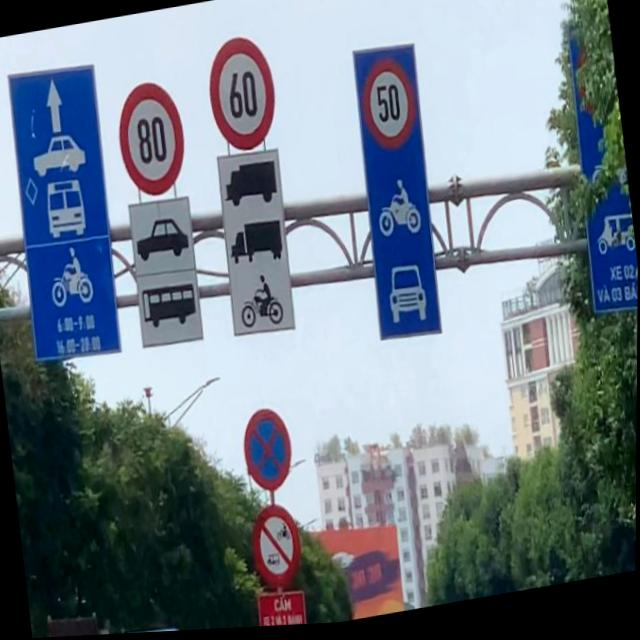Cam dung xe va do xe: (239, 405, 297, 498)
Toc do toi da cho phep: (202, 33, 283, 159), (111, 78, 192, 203), (356, 58, 420, 157)
